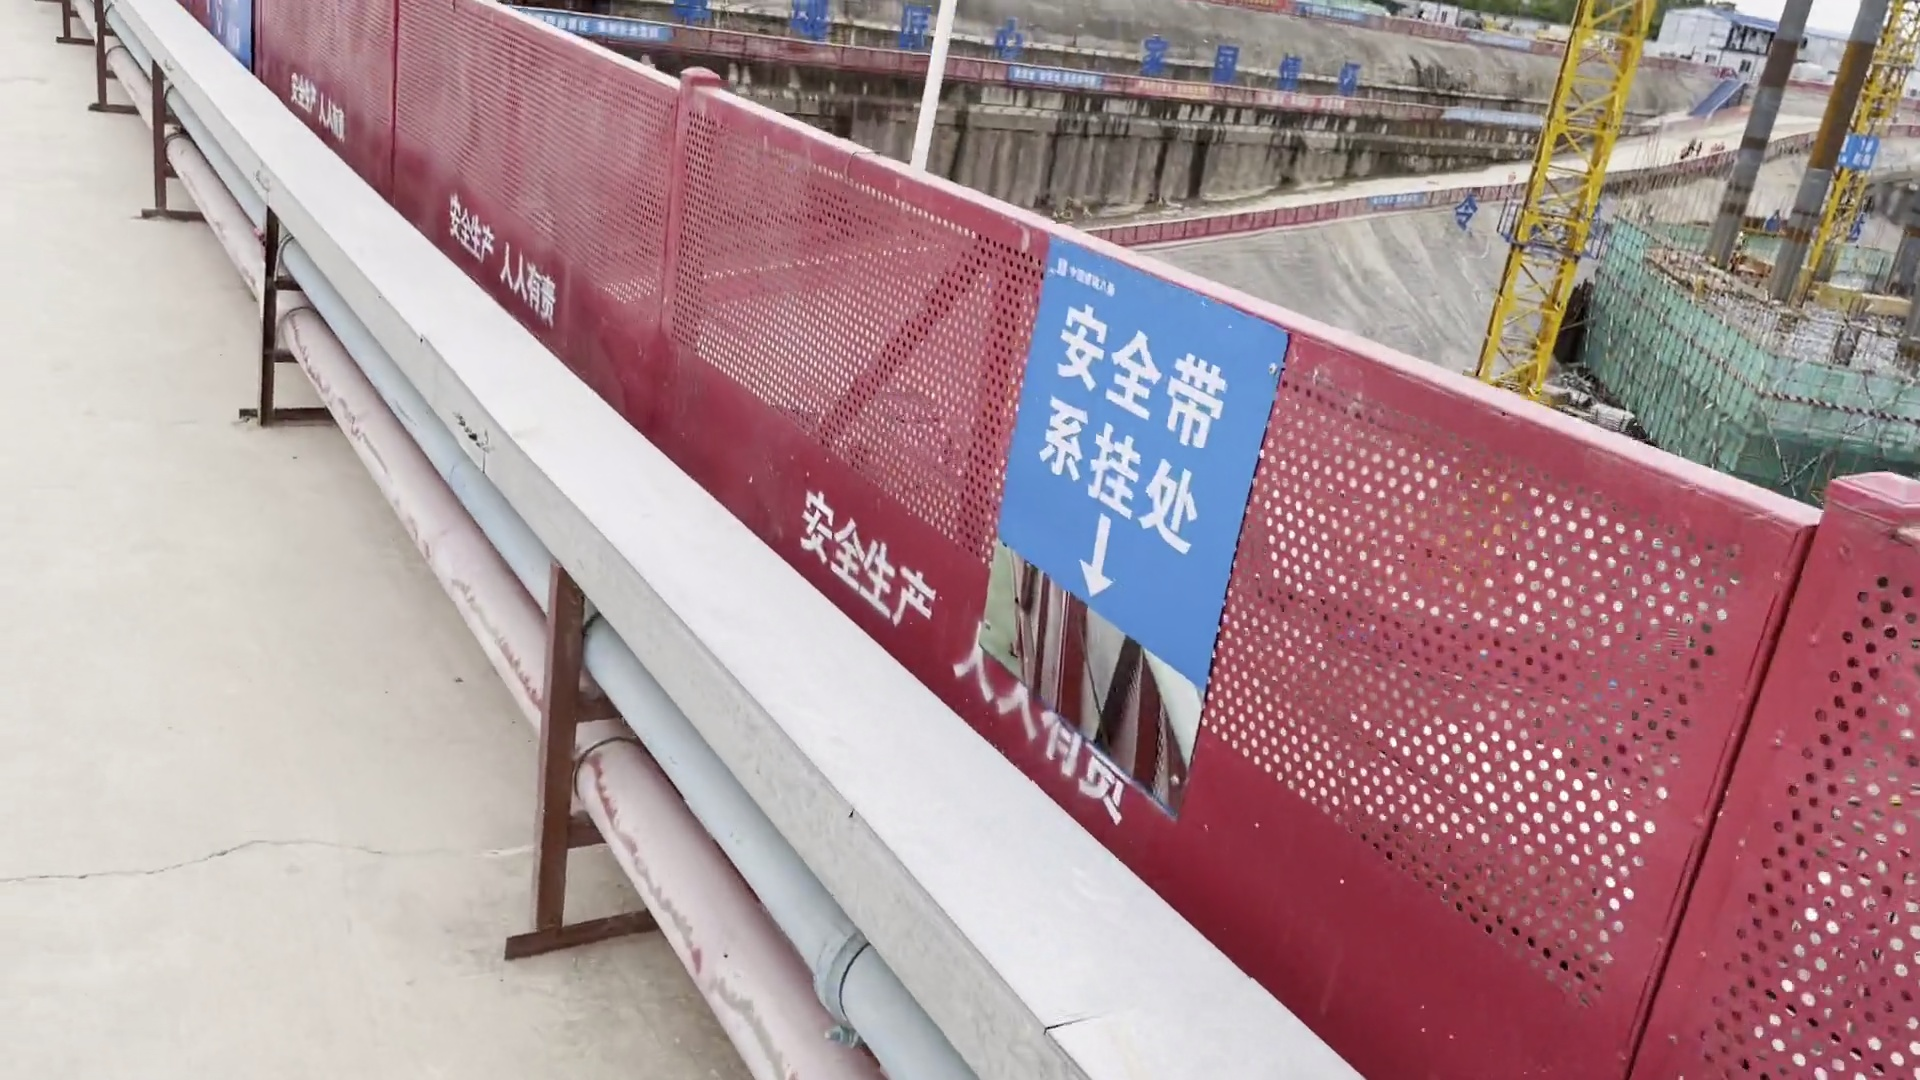fence: (1160, 268, 1920, 1080), (731, 112, 1178, 901), (181, 1, 749, 547)
slogan: (967, 224, 1276, 847), (199, 4, 294, 91), (520, 9, 675, 55), (1004, 62, 1110, 108), (1257, 73, 1350, 124), (1818, 119, 1883, 193), (1134, 74, 1233, 104)
wood: (1588, 400, 1638, 434)
